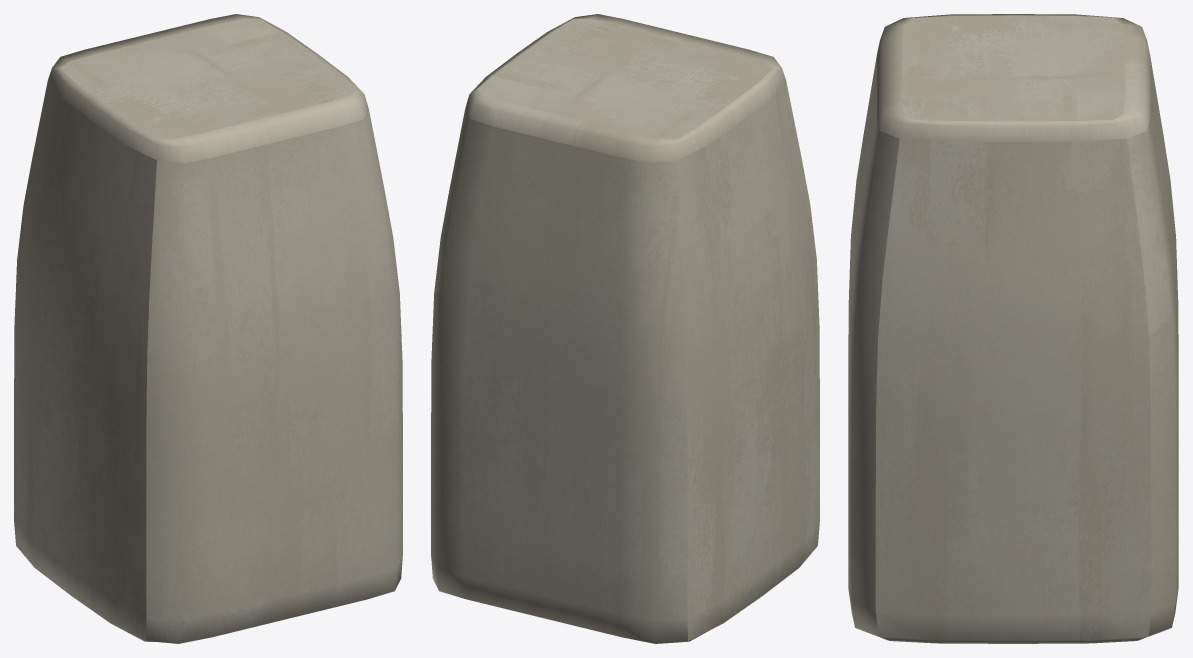
Rendered from display_pedestal.fbx.
3 views of the same model, side by side, from view 1: azimuth 30°, elevation 25°; view 2: azimuth 150°, elevation 25°; view 3: azimuth 270°, elevation 25° (orthographic). The views are drawn at different scales.
Parts seen in each view (by area): view 1: display pedestal.004; view 2: display pedestal.004; view 3: display pedestal.004.
Part boxes in pixels (<box>): display pedestal.004: <box>14,14,402,643</box>; display pedestal.004: <box>431,14,819,643</box>; display pedestal.004: <box>848,14,1178,643</box>.
Size of the model in its own units: 53.89 by 92.16 by 53.89.
1 material, 1 textured.
